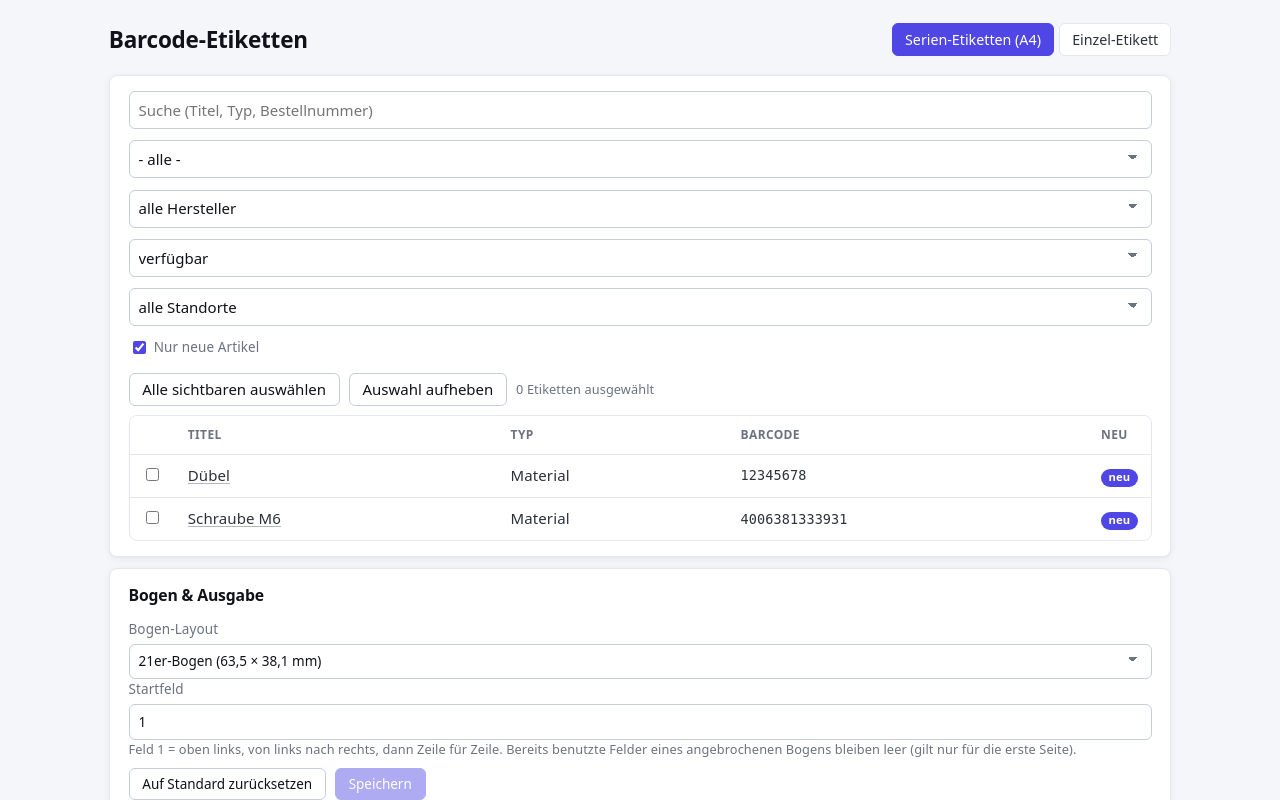
Test case: BarcodeErzeugenView — Serien-Etiketten › zeigt die Artikel mit "neu"-Badge und waehlt alle sichtbaren aus
Check: the number of elements with class "badge-neu" is 2, box [1101,468,1138,487]; [1101,512,1138,530]
Click the button "Alle sichtbaren auswählen" at (234, 389), box [128,372,340,406]
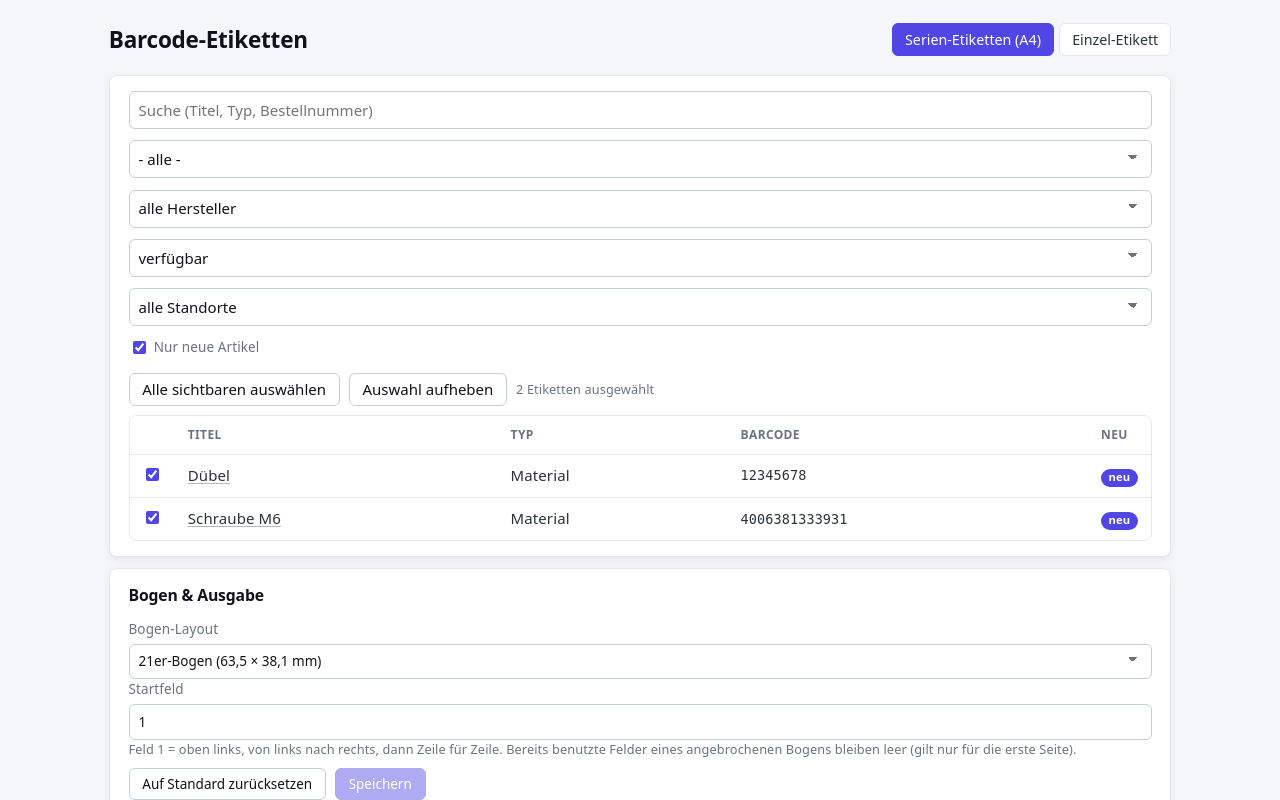
Check: the text "2 Etiketten ausgewählt" is shown, box [516,380,654,399]
